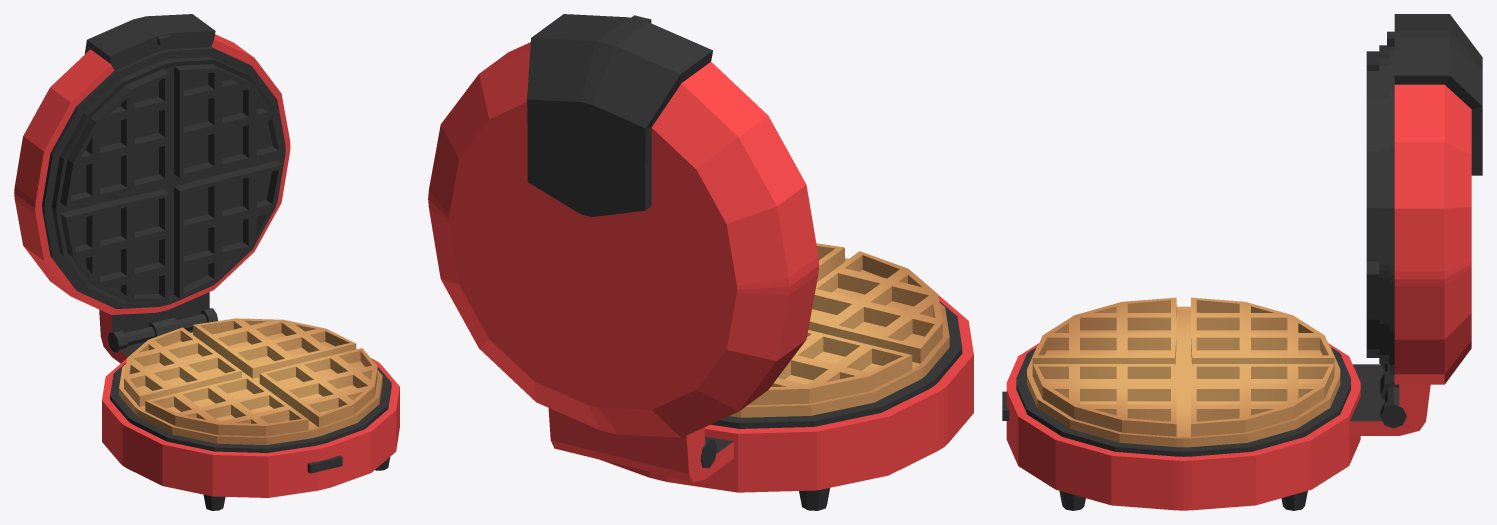
File: waffle_maker.fbx
The picture shows the model from 3 angles, left to right: view 1: azimuth 30°, elevation 25°; view 2: azimuth 150°, elevation 25°; view 3: azimuth 270°, elevation 25°; orthographic projection. The views are drawn at different scales.
Parts seen in each view (by area): view 1: waffle_maker; view 2: waffle_maker; view 3: waffle_maker.
Part boxes in pixels (left/top/right/bottom): waffle_maker: left=14, top=14, right=399, bottom=510; waffle_maker: left=428, top=14, right=973, bottom=510; waffle_maker: left=1002, top=14, right=1482, bottom=510.
Bounding box in the file's own units: 0.4932 × 0.6533 × 0.6708.
Materials: 1 (1 with a texture image).
